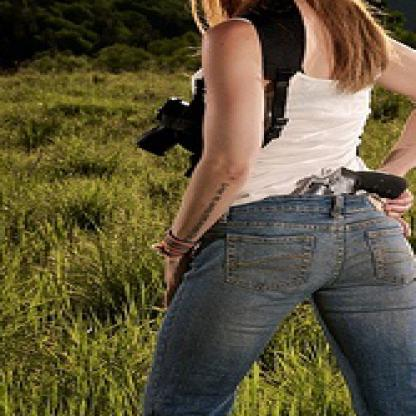gun: (272, 165, 408, 206), (132, 92, 209, 160)
